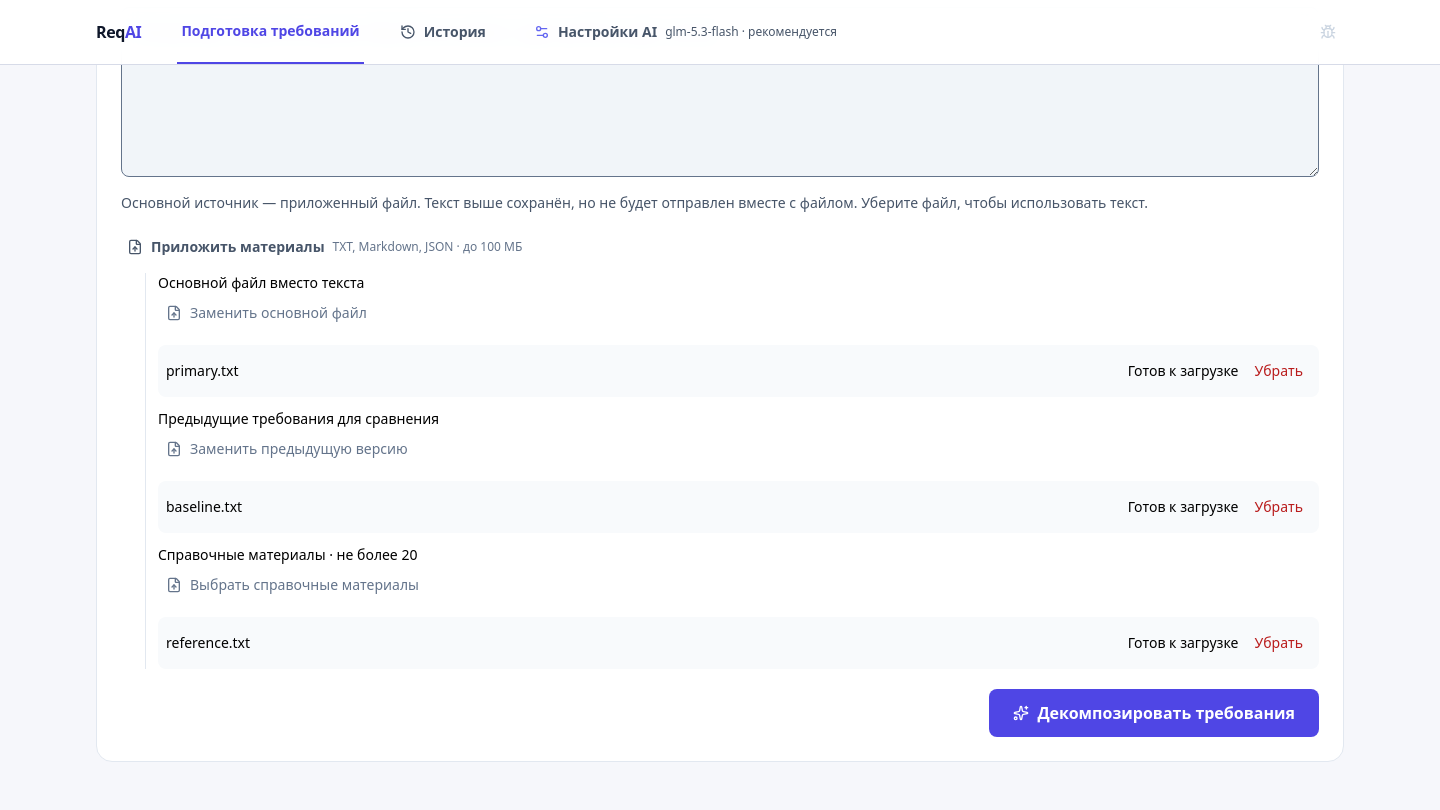
Scenario: material roles use integration API and retry only failed file uploads
Earlier steps of the test are not shown.
Later steps or results of the test are not shown.
(page scrolled)
Click the button "Декомпозировать требования".
click(1154, 713)  # box top-left (989, 689), bottom-right (1319, 737)
(page scrolled)
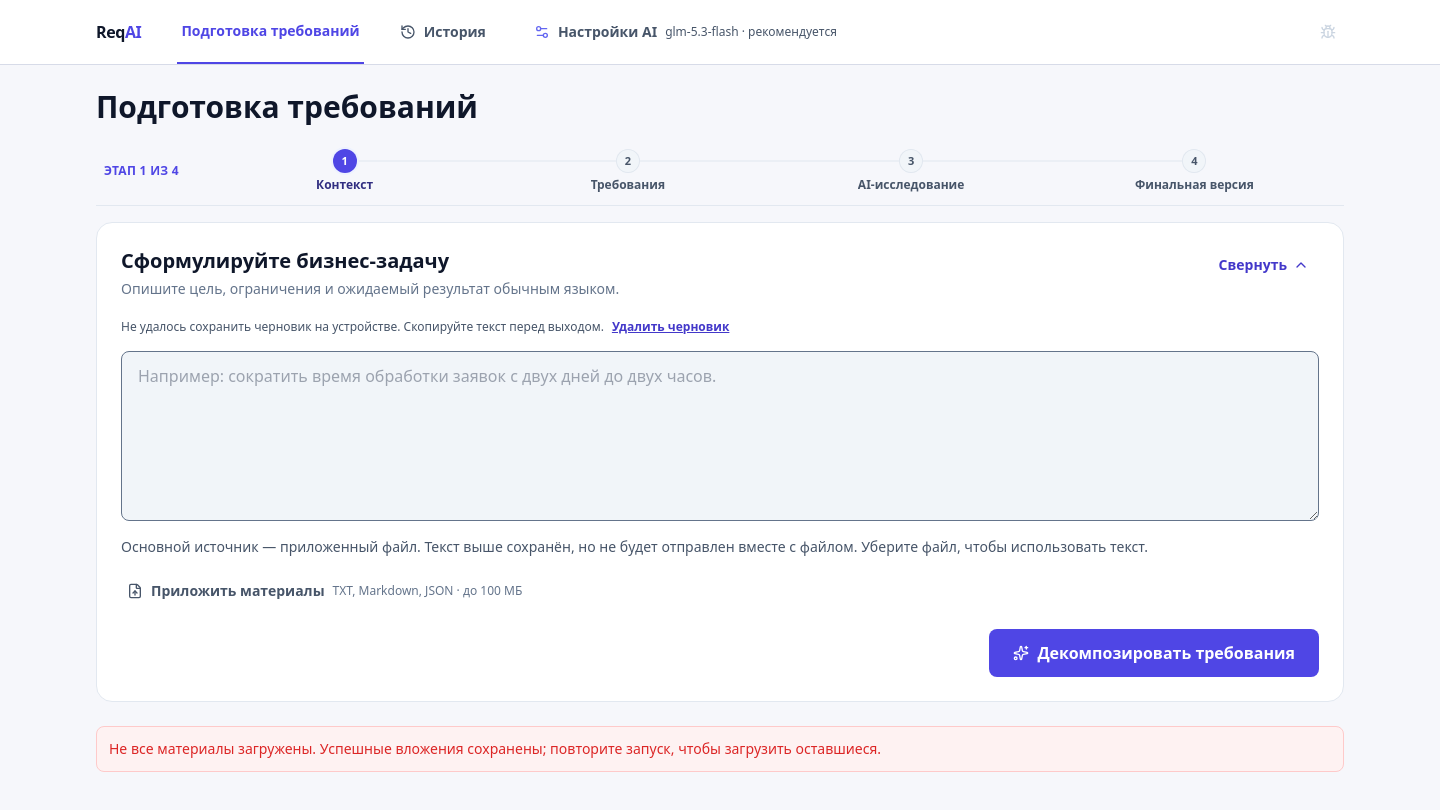
Check: the text "Не все материалы загружены" is shown, box top-left (109, 739), bottom-right (881, 758)
